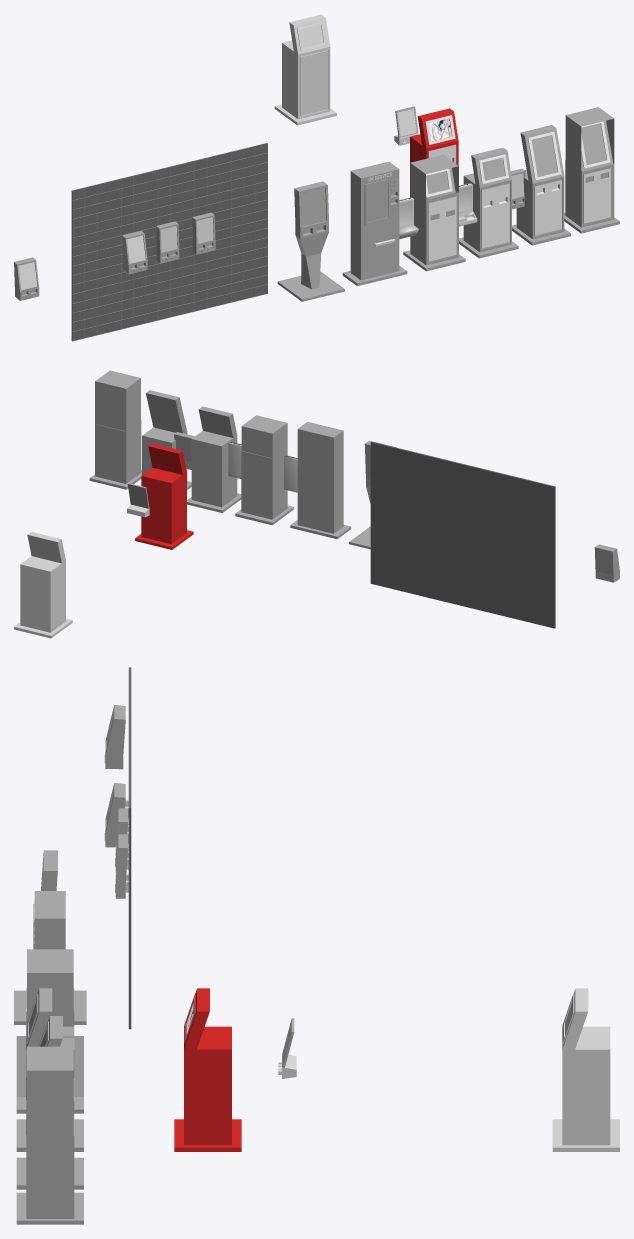
File: WALL-SLAB-ATVM.glb
3 renders of one model, top to bottom at view 1: azimuth 30°, elevation 25°; view 2: azimuth 150°, elevation 25°; view 3: azimuth 270°, elevation 25°, orthographic. The views are drawn at different scales.
Visible parts, largest first — view 1: Plane.001, Plane.002, Cube, ATVM_hollow, ATVM-VERTICAL, ATVM-OG, Cube.001, ATVM-VERTICAL.001, ATVM-PRIVATE, ATVM-PRIVATE-COVER.001, ATVM-PRIVATE-COVER, OLD-ATVM-OG (+8 smaller); view 2: Plane.001, Cube, ATVM_hollow, OLD-ATVM-OG, ATVM-OG, ATVM-PRIVATE-COVER.001, ATVM-PRIVATE-COVER, ATVM-PRIVATE, ATVM-VERTICAL, ATVM-VERTICAL.001, Cube.011, Cube.001 (+4 smaller); view 3: ATVM-PRIVATE-COVER.001, ATVM_hollow, OLD-ATVM-OG, ATVM-PRIVATE-COVER, ATVM-OG, Cube, Cube.001, ATVM-VERTICAL, Plane, ATVM-VERTICAL.001, Cube.011, Plane.001 (+2 smaller).
Boxes of the visible parts, x1,y1,x2,y2 form: Plane.001: (71,143,267,341); Plane.002: (72,143,267,341); Cube: (342,161,407,286); ATVM_hollow: (274,14,336,125); ATVM-VERTICAL: (512,125,570,245); ATVM-OG: (459,147,518,258); Cube.001: (277,181,344,301); ATVM-VERTICAL.001: (564,120,619,233); ATVM-PRIVATE: (403,168,465,271); ATVM-PRIVATE-COVER.001: (565,107,614,226); ATVM-PRIVATE-COVER: (410,155,458,265); OLD-ATVM-OG: (410,108,458,197); Plane.001: (370,441,555,628); Cube: (290,421,351,539); ATVM_hollow: (14,532,72,638); OLD-ATVM-OG: (135,443,193,549); ATVM-OG: (187,406,241,512); ATVM-PRIVATE-COVER.001: (95,370,140,483); ATVM-PRIVATE-COVER: (241,415,287,519); ATVM-PRIVATE: (235,451,293,525); ATVM-VERTICAL: (142,390,191,489); ATVM-VERTICAL.001: (89,420,141,489); Cube.011: (594,544,619,582); Cube.001: (349,440,396,549); ATVM-PRIVATE-COVER.001: (27,1046,73,1218); ATVM_hollow: (552,988,619,1151); OLD-ATVM-OG: (174,988,241,1151); ATVM-PRIVATE-COVER: (27,949,73,1026); ATVM-OG: (16,988,83,1151); Cube: (33,891,65,949); Cube.001: (14,850,86,1024); ATVM-VERTICAL: (16,1016,83,1189); Plane: (16,1036,83,1096); ATVM-VERTICAL.001: (16,1111,83,1224); Cube.011: (104,705,125,769); Plane.001: (129,667,131,1029).
Size of the model in its own units: 28.83 by 7.26 by 18.
7 materials, 1 textured.
